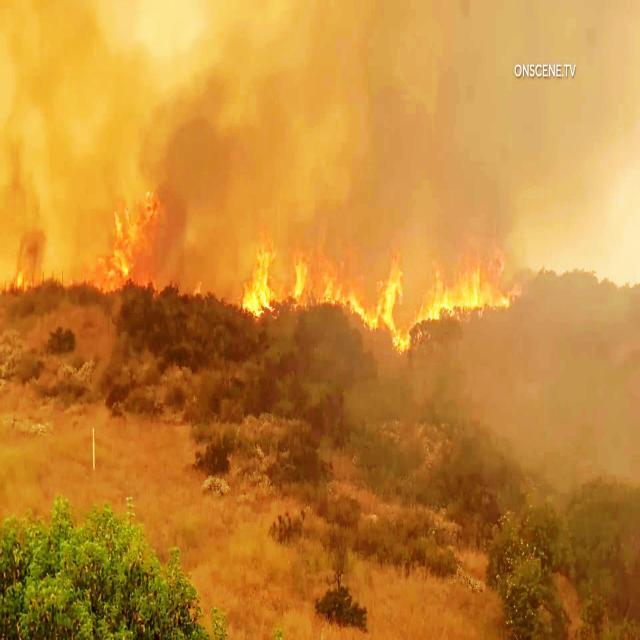Fire: (98, 137, 162, 296), (408, 244, 518, 336), (240, 203, 302, 315), (305, 186, 359, 302), (350, 238, 408, 330), (4, 256, 33, 296)
